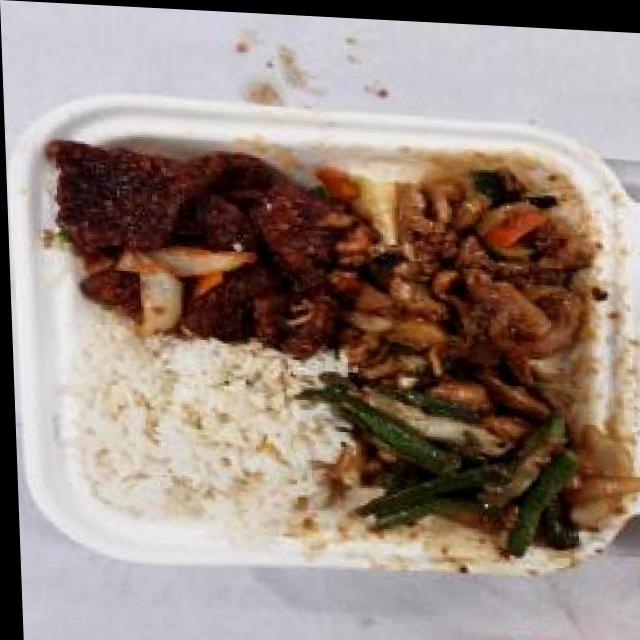Beijing Beef: (44, 127, 353, 344)
Kung Pao Chicken: (329, 148, 606, 387)
String Bean Chicken Breast: (343, 362, 601, 547)
White Steamed Rice: (68, 335, 333, 539)
